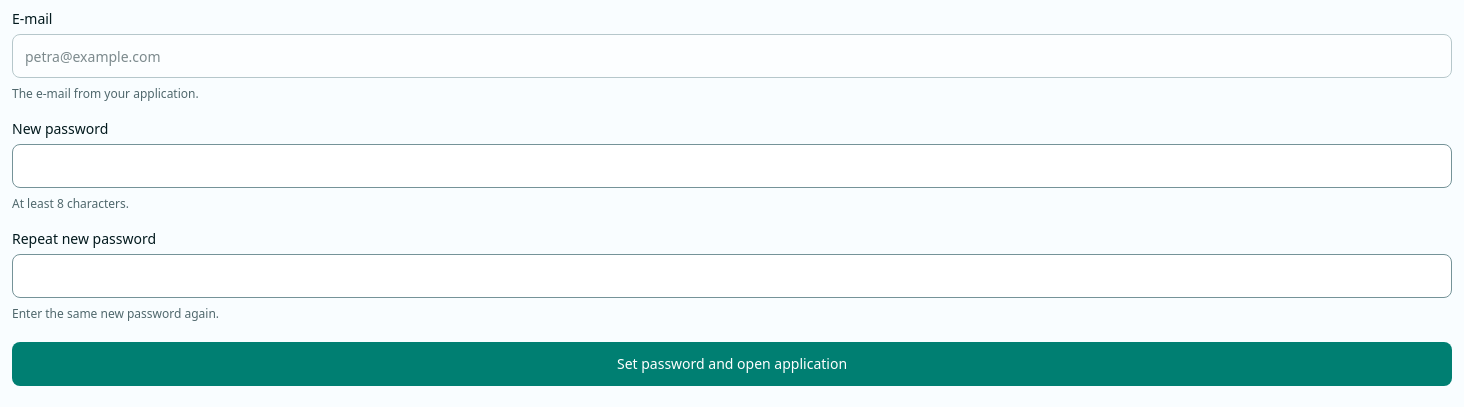
Test: SetPasswordForm › refuses a password shorter than 8 characters and sends nothing
This screenshot has width=1464, height=407.
Type "short" into the password field labelled "New password" at (732, 166), box top-left (12, 144), bottom-right (1452, 188)
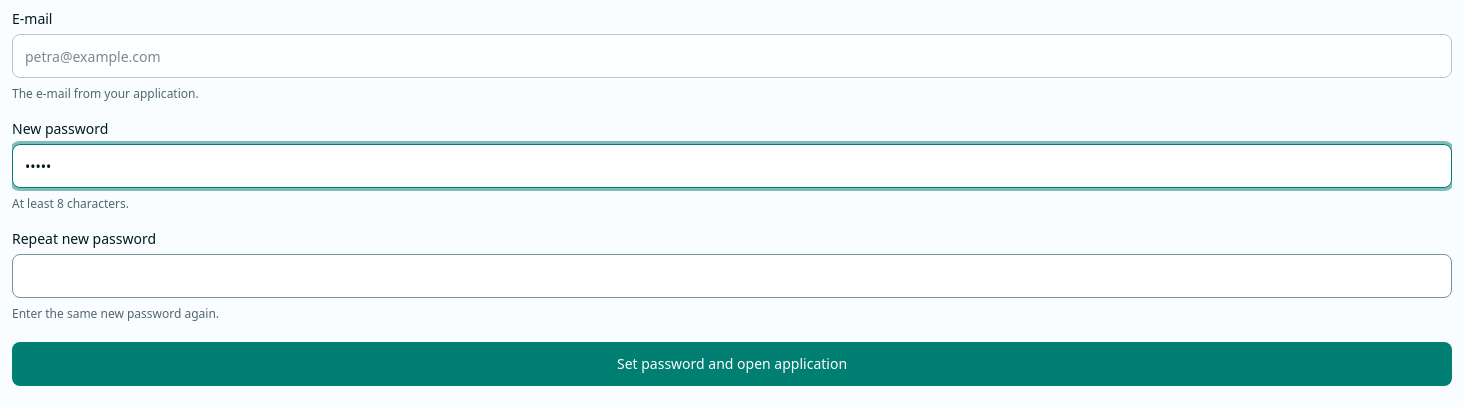
Type "short" into the password field labelled "Repeat new password" at (732, 276), box top-left (12, 254), bottom-right (1452, 298)
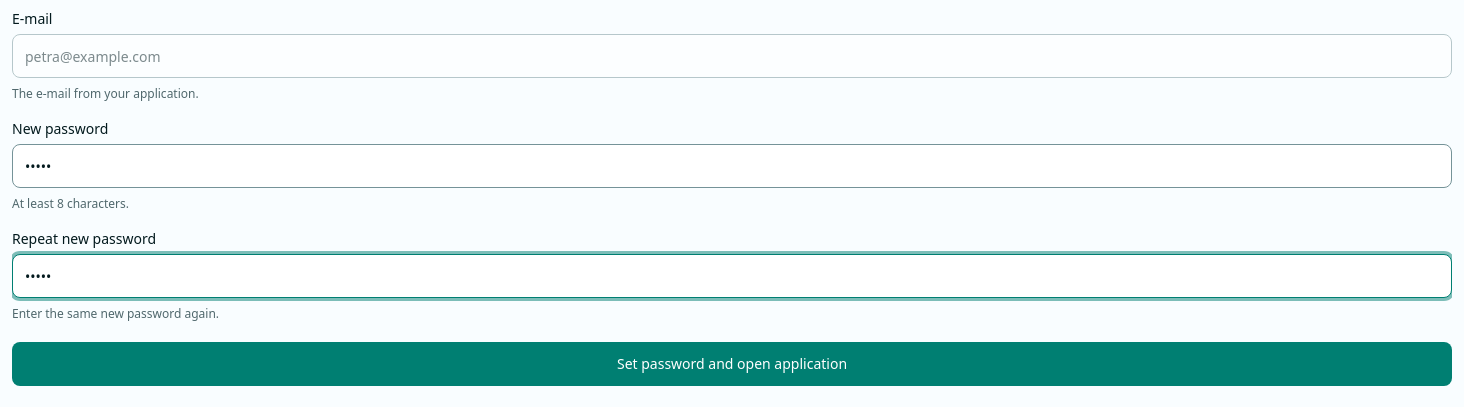
Click the button "Set password and open application" at (732, 364), box top-left (12, 342), bottom-right (1452, 386)
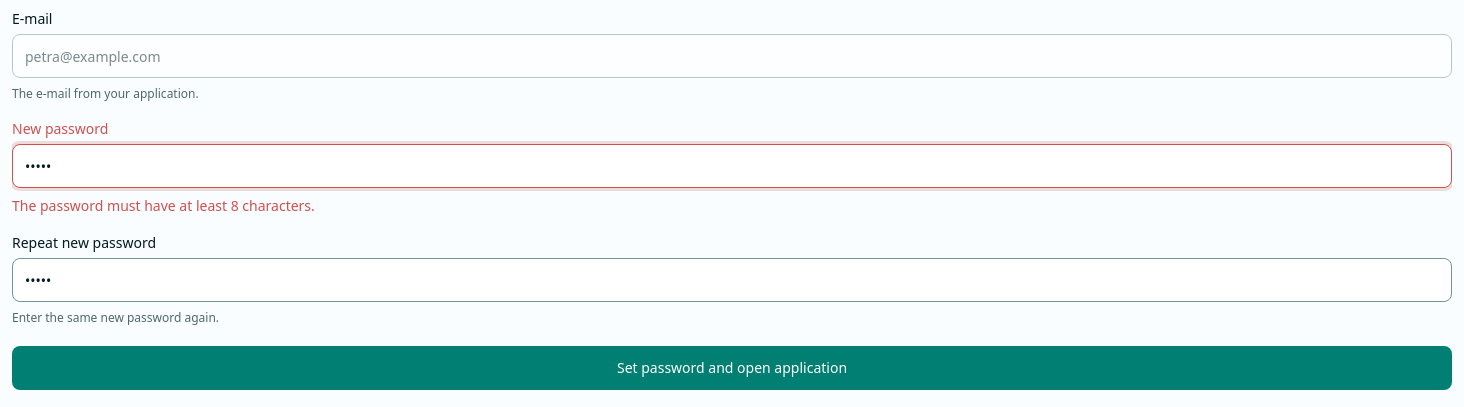
Check: the text "The password must have at least 8 characters." is shown, box top-left (12, 196), bottom-right (315, 215)
